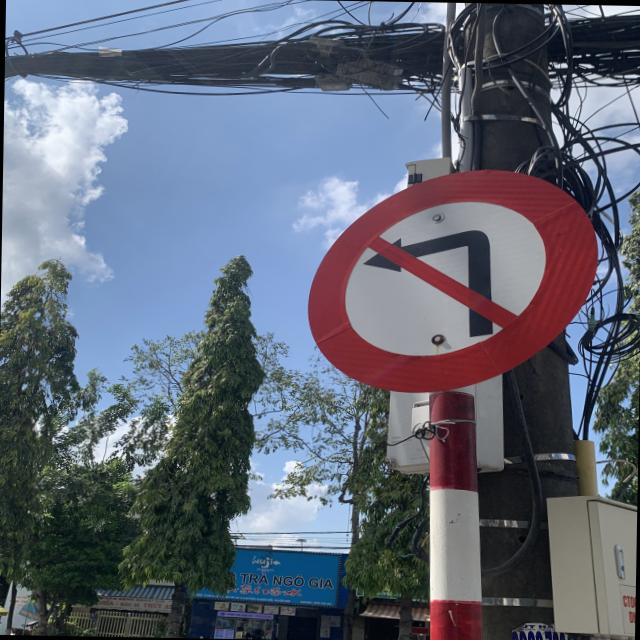Cam_Re_Trai: (304, 166, 604, 398)
